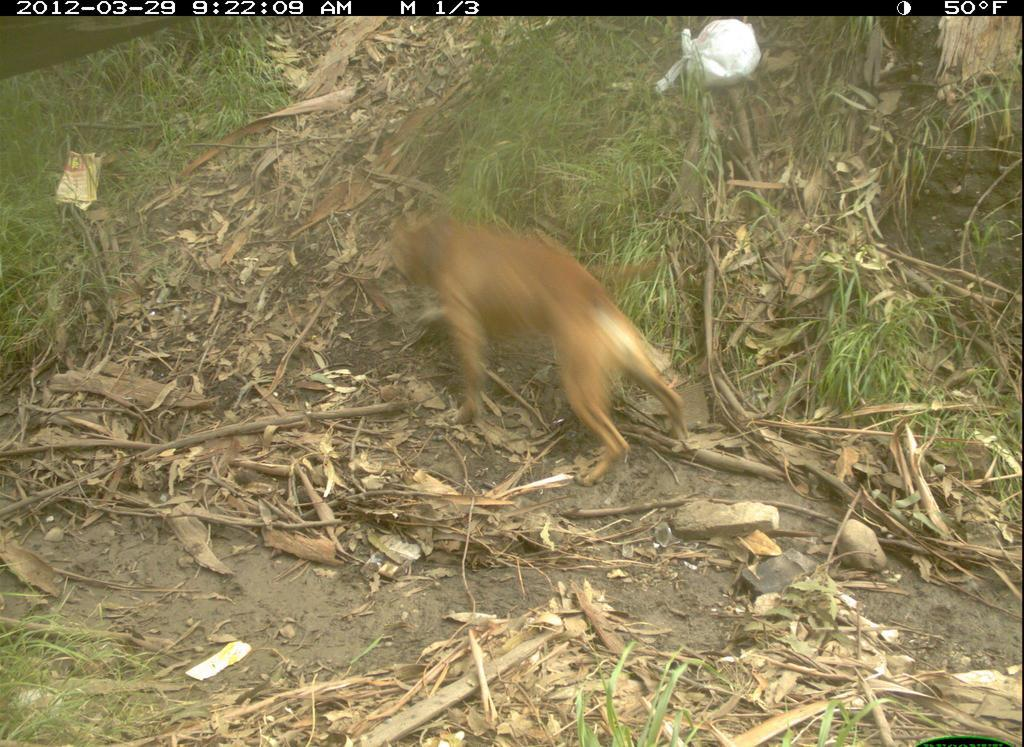dog: (372, 200, 690, 483)
